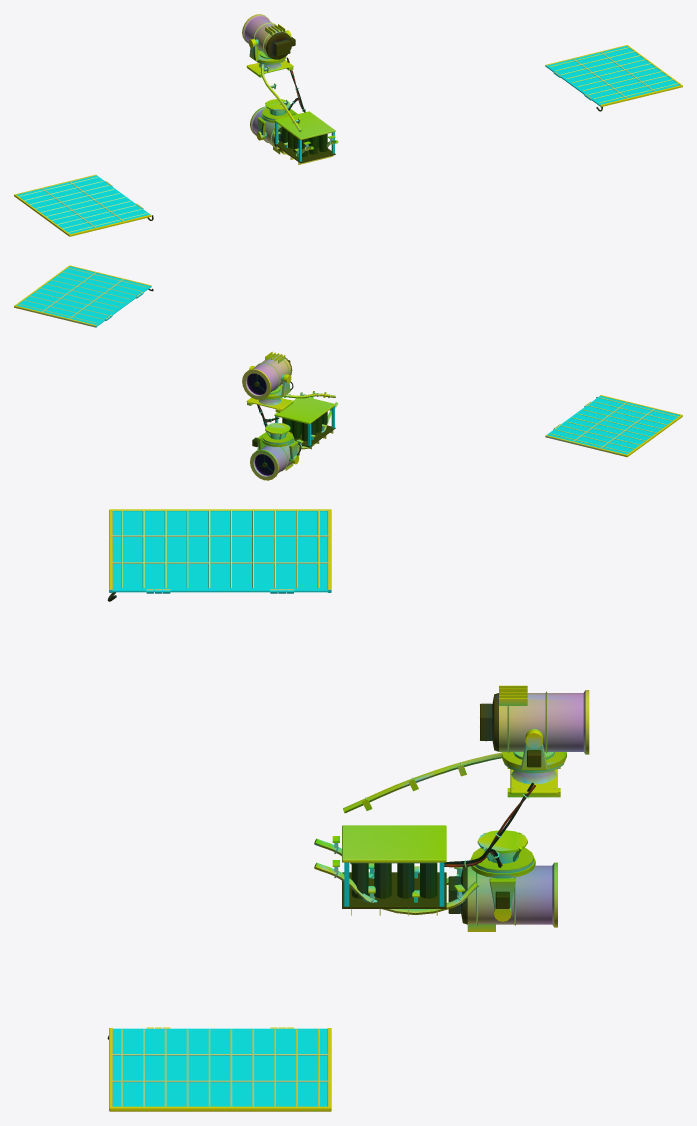
File: kit_picket.glb
3 renders of one model, top to bottom at view 1: azimuth 30°, elevation 25°; view 2: azimuth 150°, elevation 25°; view 3: azimuth 270°, elevation 25°, orthographic. The views are drawn at different scales.
Parts seen in each view (by area): view 1: RAD_R2, RAD_L2, KIT_PICKET_BODY, PD_0_EL, PD_1_EL, PD_0_AZ; view 2: RAD_R2, RAD_L2, KIT_PICKET_BODY, PD_0_EL, PD_1_EL, PD_1_AZ, PD_0_AZ; view 3: RAD_L2, RAD_R2, KIT_PICKET_BODY, PD_0_EL, PD_1_EL, PD_0_AZ, PD_1_AZ.
Boxes of the visible parts, left/top/right/bottom form: RAD_R2: left=545, top=45, right=682, bottom=111; RAD_L2: left=14, top=174, right=153, bottom=236; KIT_PICKET_BODY: left=246, top=57, right=338, bottom=164; PD_0_EL: left=242, top=14, right=292, bottom=59; PD_1_EL: left=250, top=106, right=283, bottom=154; PD_0_AZ: left=248, top=30, right=295, bottom=63; RAD_R2: left=14, top=265, right=153, bottom=327; RAD_L2: left=545, top=395, right=682, bottom=457; KIT_PICKET_BODY: left=246, top=391, right=338, bottom=449; PD_0_EL: left=242, top=351, right=292, bottom=399; PD_1_EL: left=250, top=439, right=299, bottom=480; PD_1_AZ: left=252, top=433, right=301, bottom=464; PD_0_AZ: left=249, top=366, right=293, bottom=398; RAD_L2: left=107, top=509, right=331, bottom=601; RAD_R2: left=107, top=1027, right=331, bottom=1111; KIT_PICKET_BODY: left=314, top=752, right=564, bottom=915; PD_0_EL: left=479, top=685, right=589, bottom=754; PD_1_EL: left=448, top=862, right=557, bottom=931; PD_0_AZ: left=501, top=729, right=566, bottom=770; PD_1_AZ: left=470, top=857, right=535, bottom=921.
Bounding box in the file's own units: 14.9 × 2.71 × 5.07.
